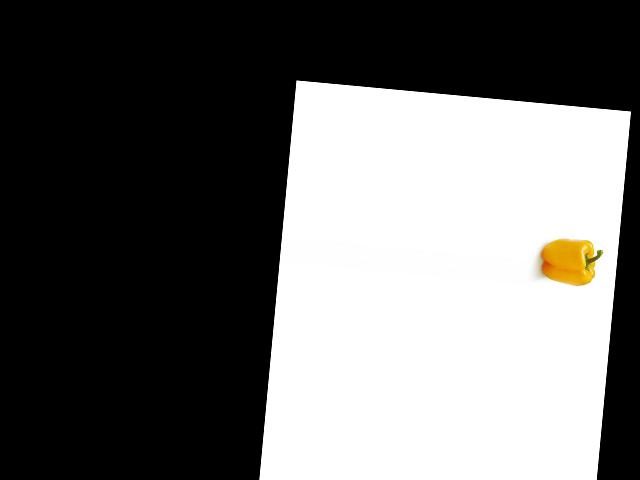bell_pepper: (538, 230, 607, 288)
